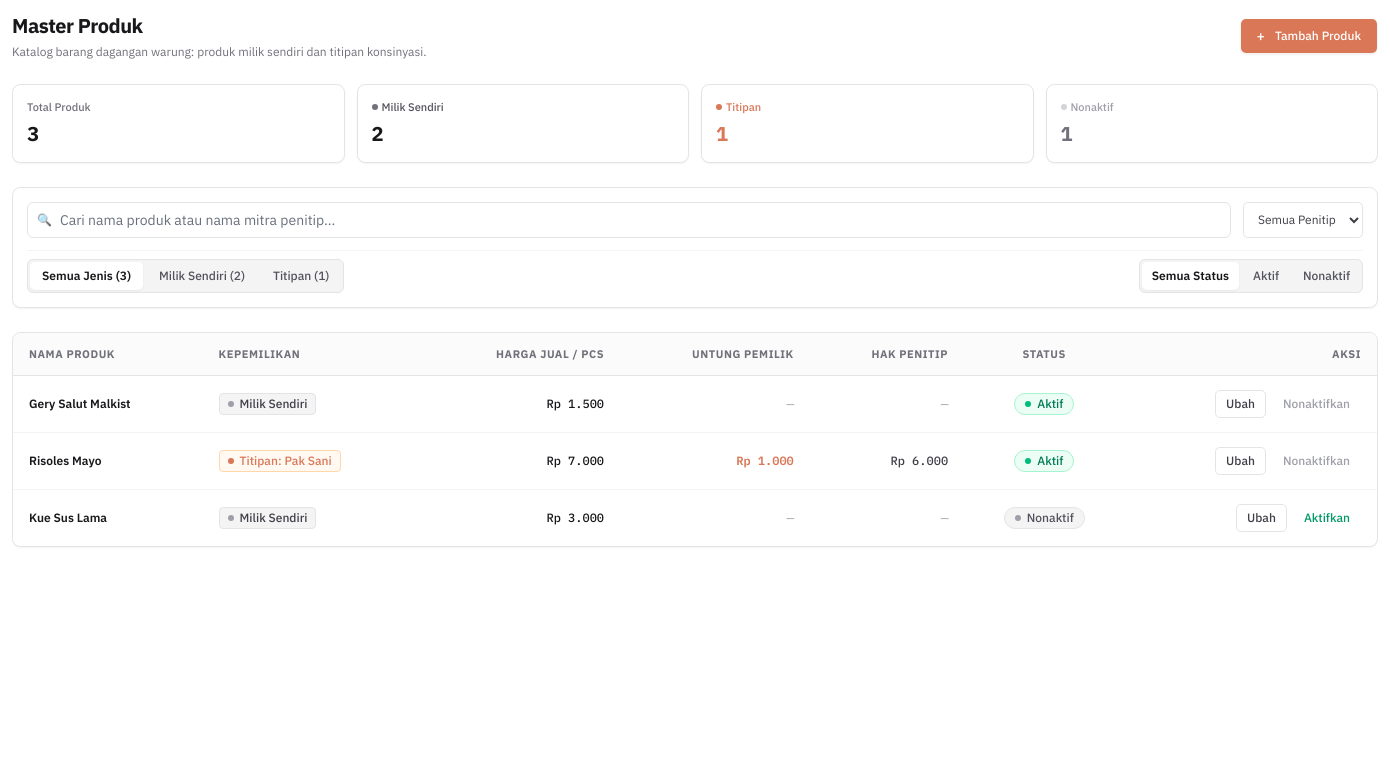
Scenario: ProdukPage Component › filters by search input
This screenshot has width=1390, height=780.
Type "Risoles" into the search field with placeholder "Cari nama produk atau nama mitra penitip...".
click(629, 220); type("Risoles")  # box [27,202,1231,238]
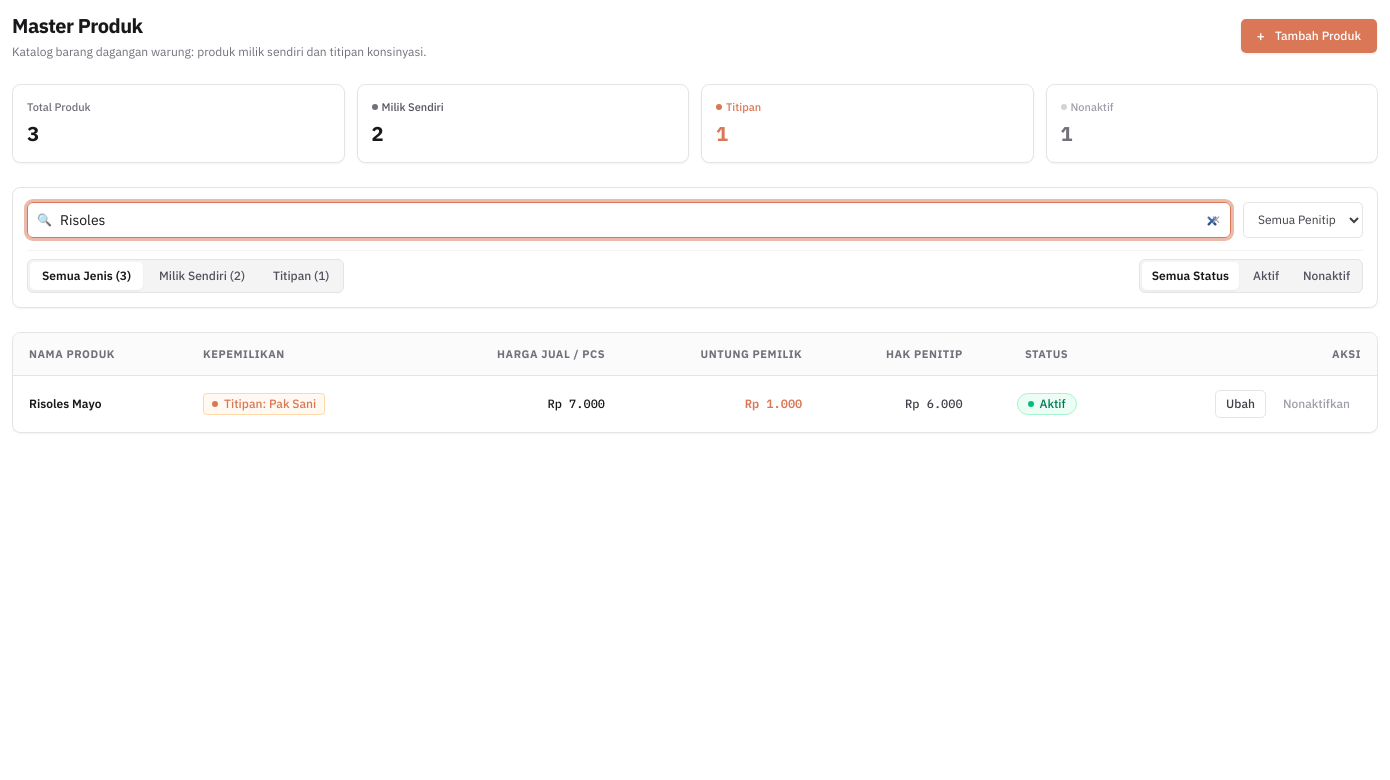
Expected: the text "Risoles Mayo" is shown, [29,396,101,411]
Now the text "Gery Salut Malkist" is not shown
